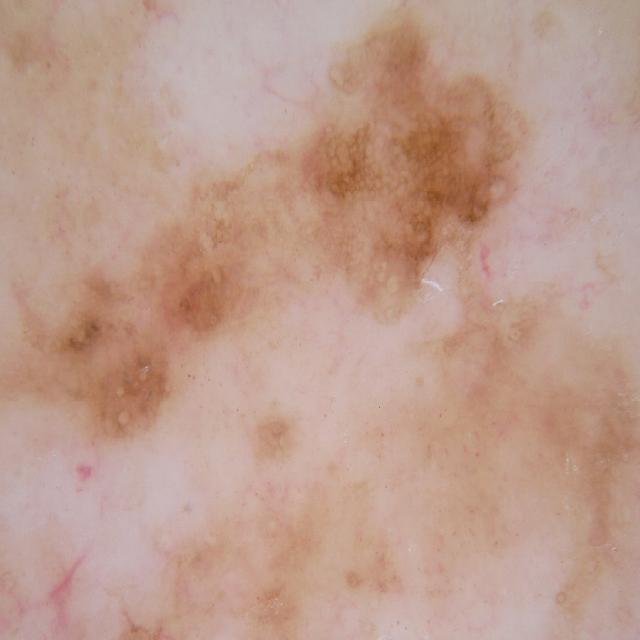Melanoma: (50, 14, 569, 545)
